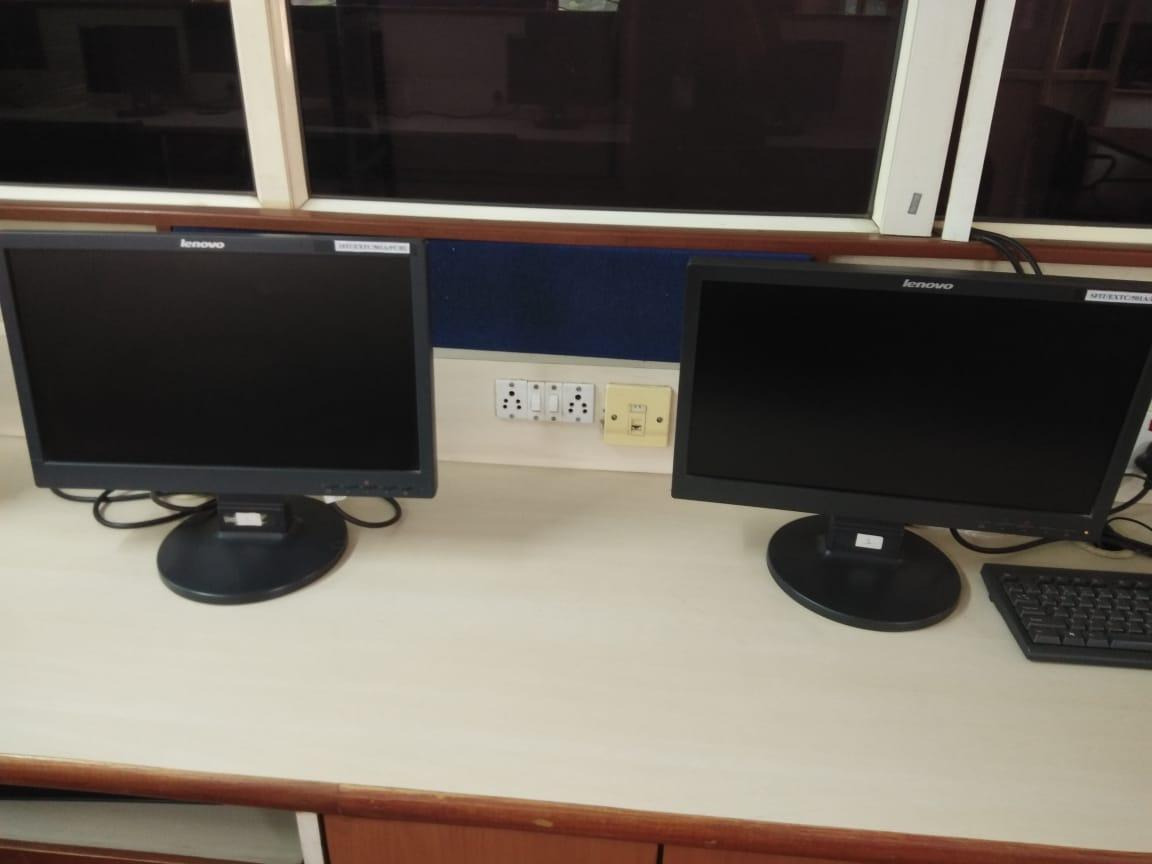monitor: (666, 249, 1152, 639), (1, 222, 438, 620)
